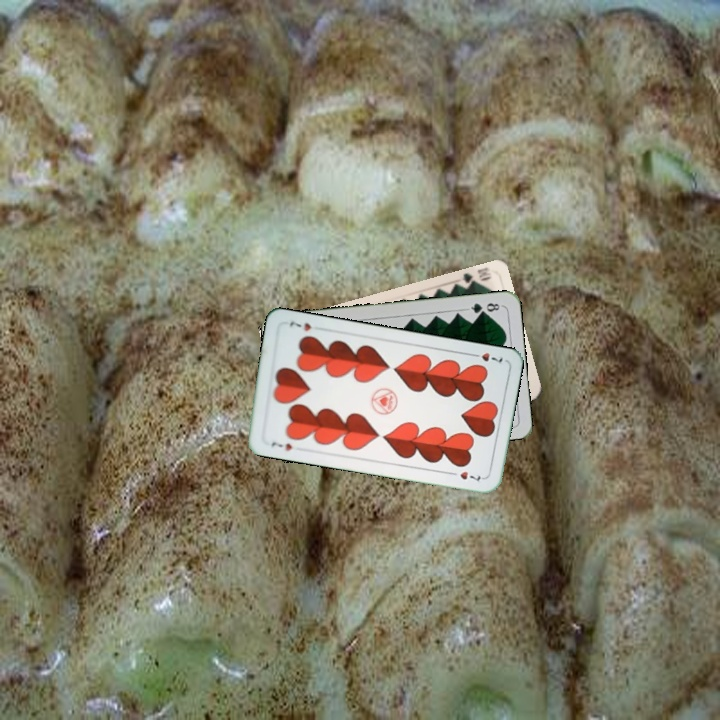G10: (458, 264, 493, 290)
G8: (464, 299, 504, 316)
H7: (466, 348, 505, 365), (267, 438, 295, 454)
